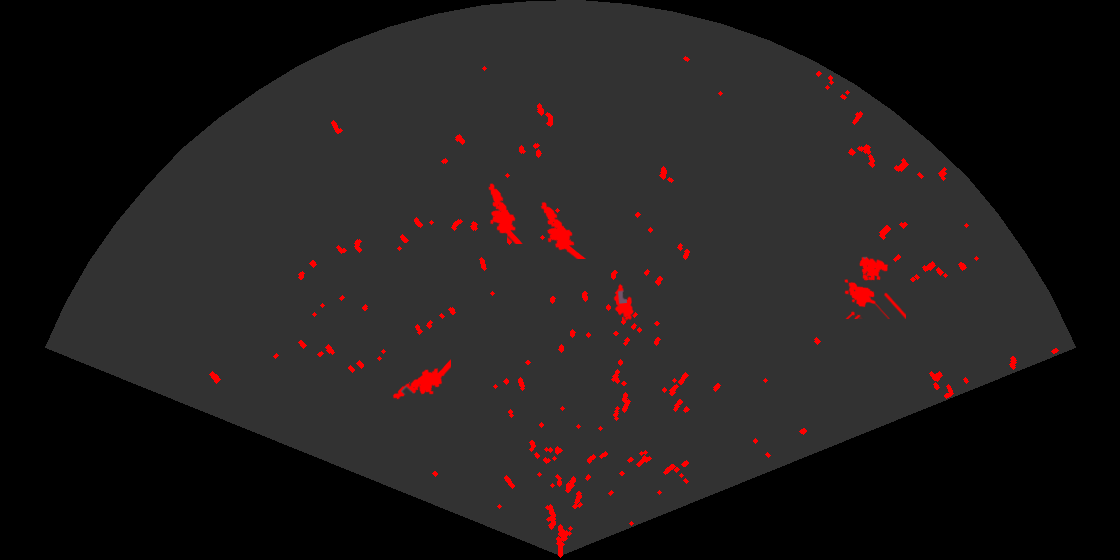AUV: (612, 282, 635, 322)
cage: (843, 255, 906, 319)
frogman: (539, 200, 586, 259), (391, 358, 451, 401), (487, 182, 524, 244)
